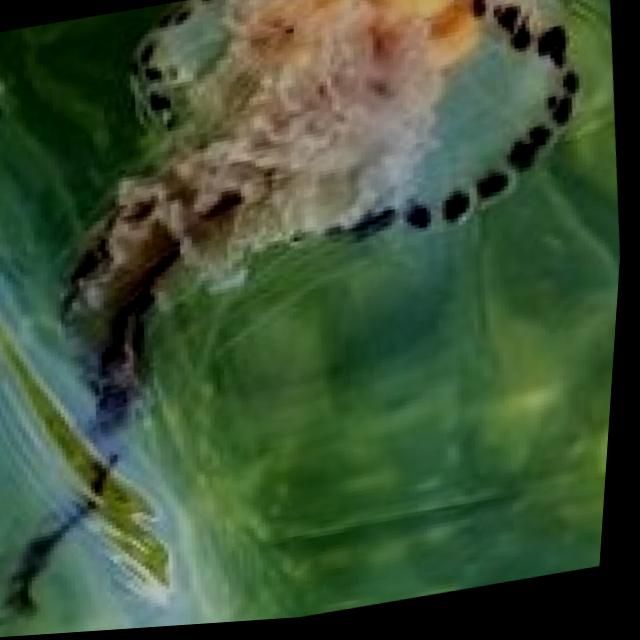Jellyfish: (4, 0, 622, 496)
